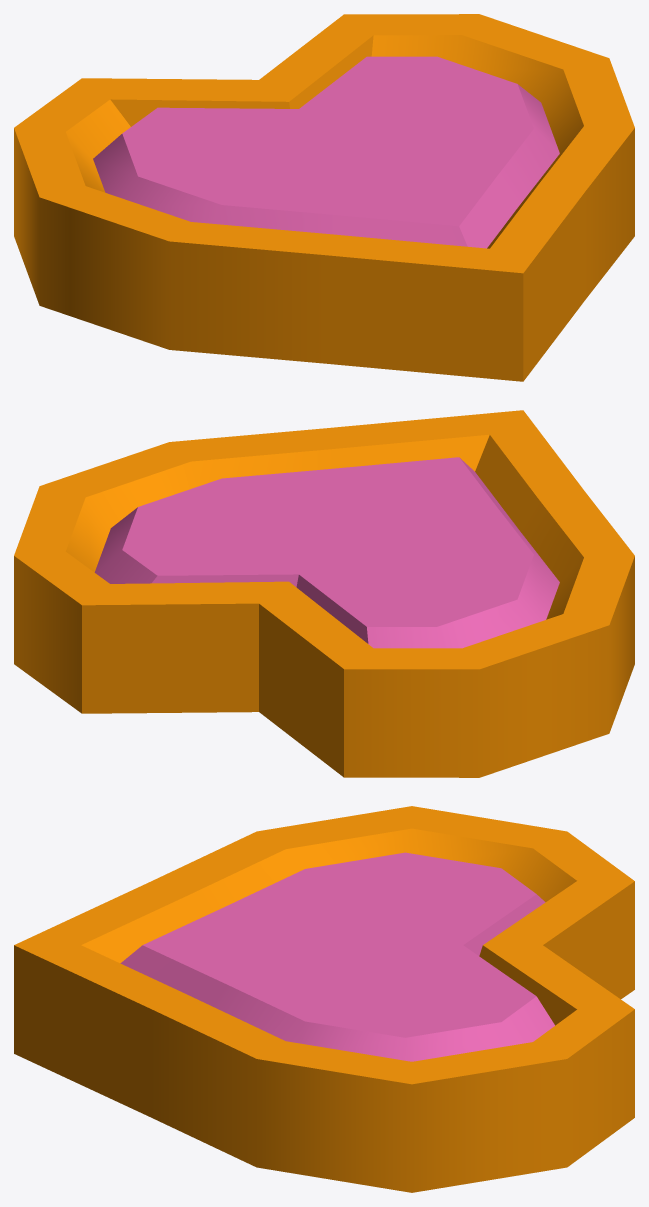
The model's file is heart.fbx.
The picture shows the model from 3 angles, top to bottom: view 1: azimuth 30°, elevation 25°; view 2: azimuth 150°, elevation 25°; view 3: azimuth 270°, elevation 25°; orthographic projection.
Visible parts, largest first — view 1: Circle; view 2: Circle; view 3: Circle.
Part boxes in pixels (x1,y1,x2,y2): Circle: (14, 14, 634, 381); Circle: (14, 410, 634, 777); Circle: (14, 806, 634, 1192).
Size of the model in its own units: 220 by 39.97 by 207.
